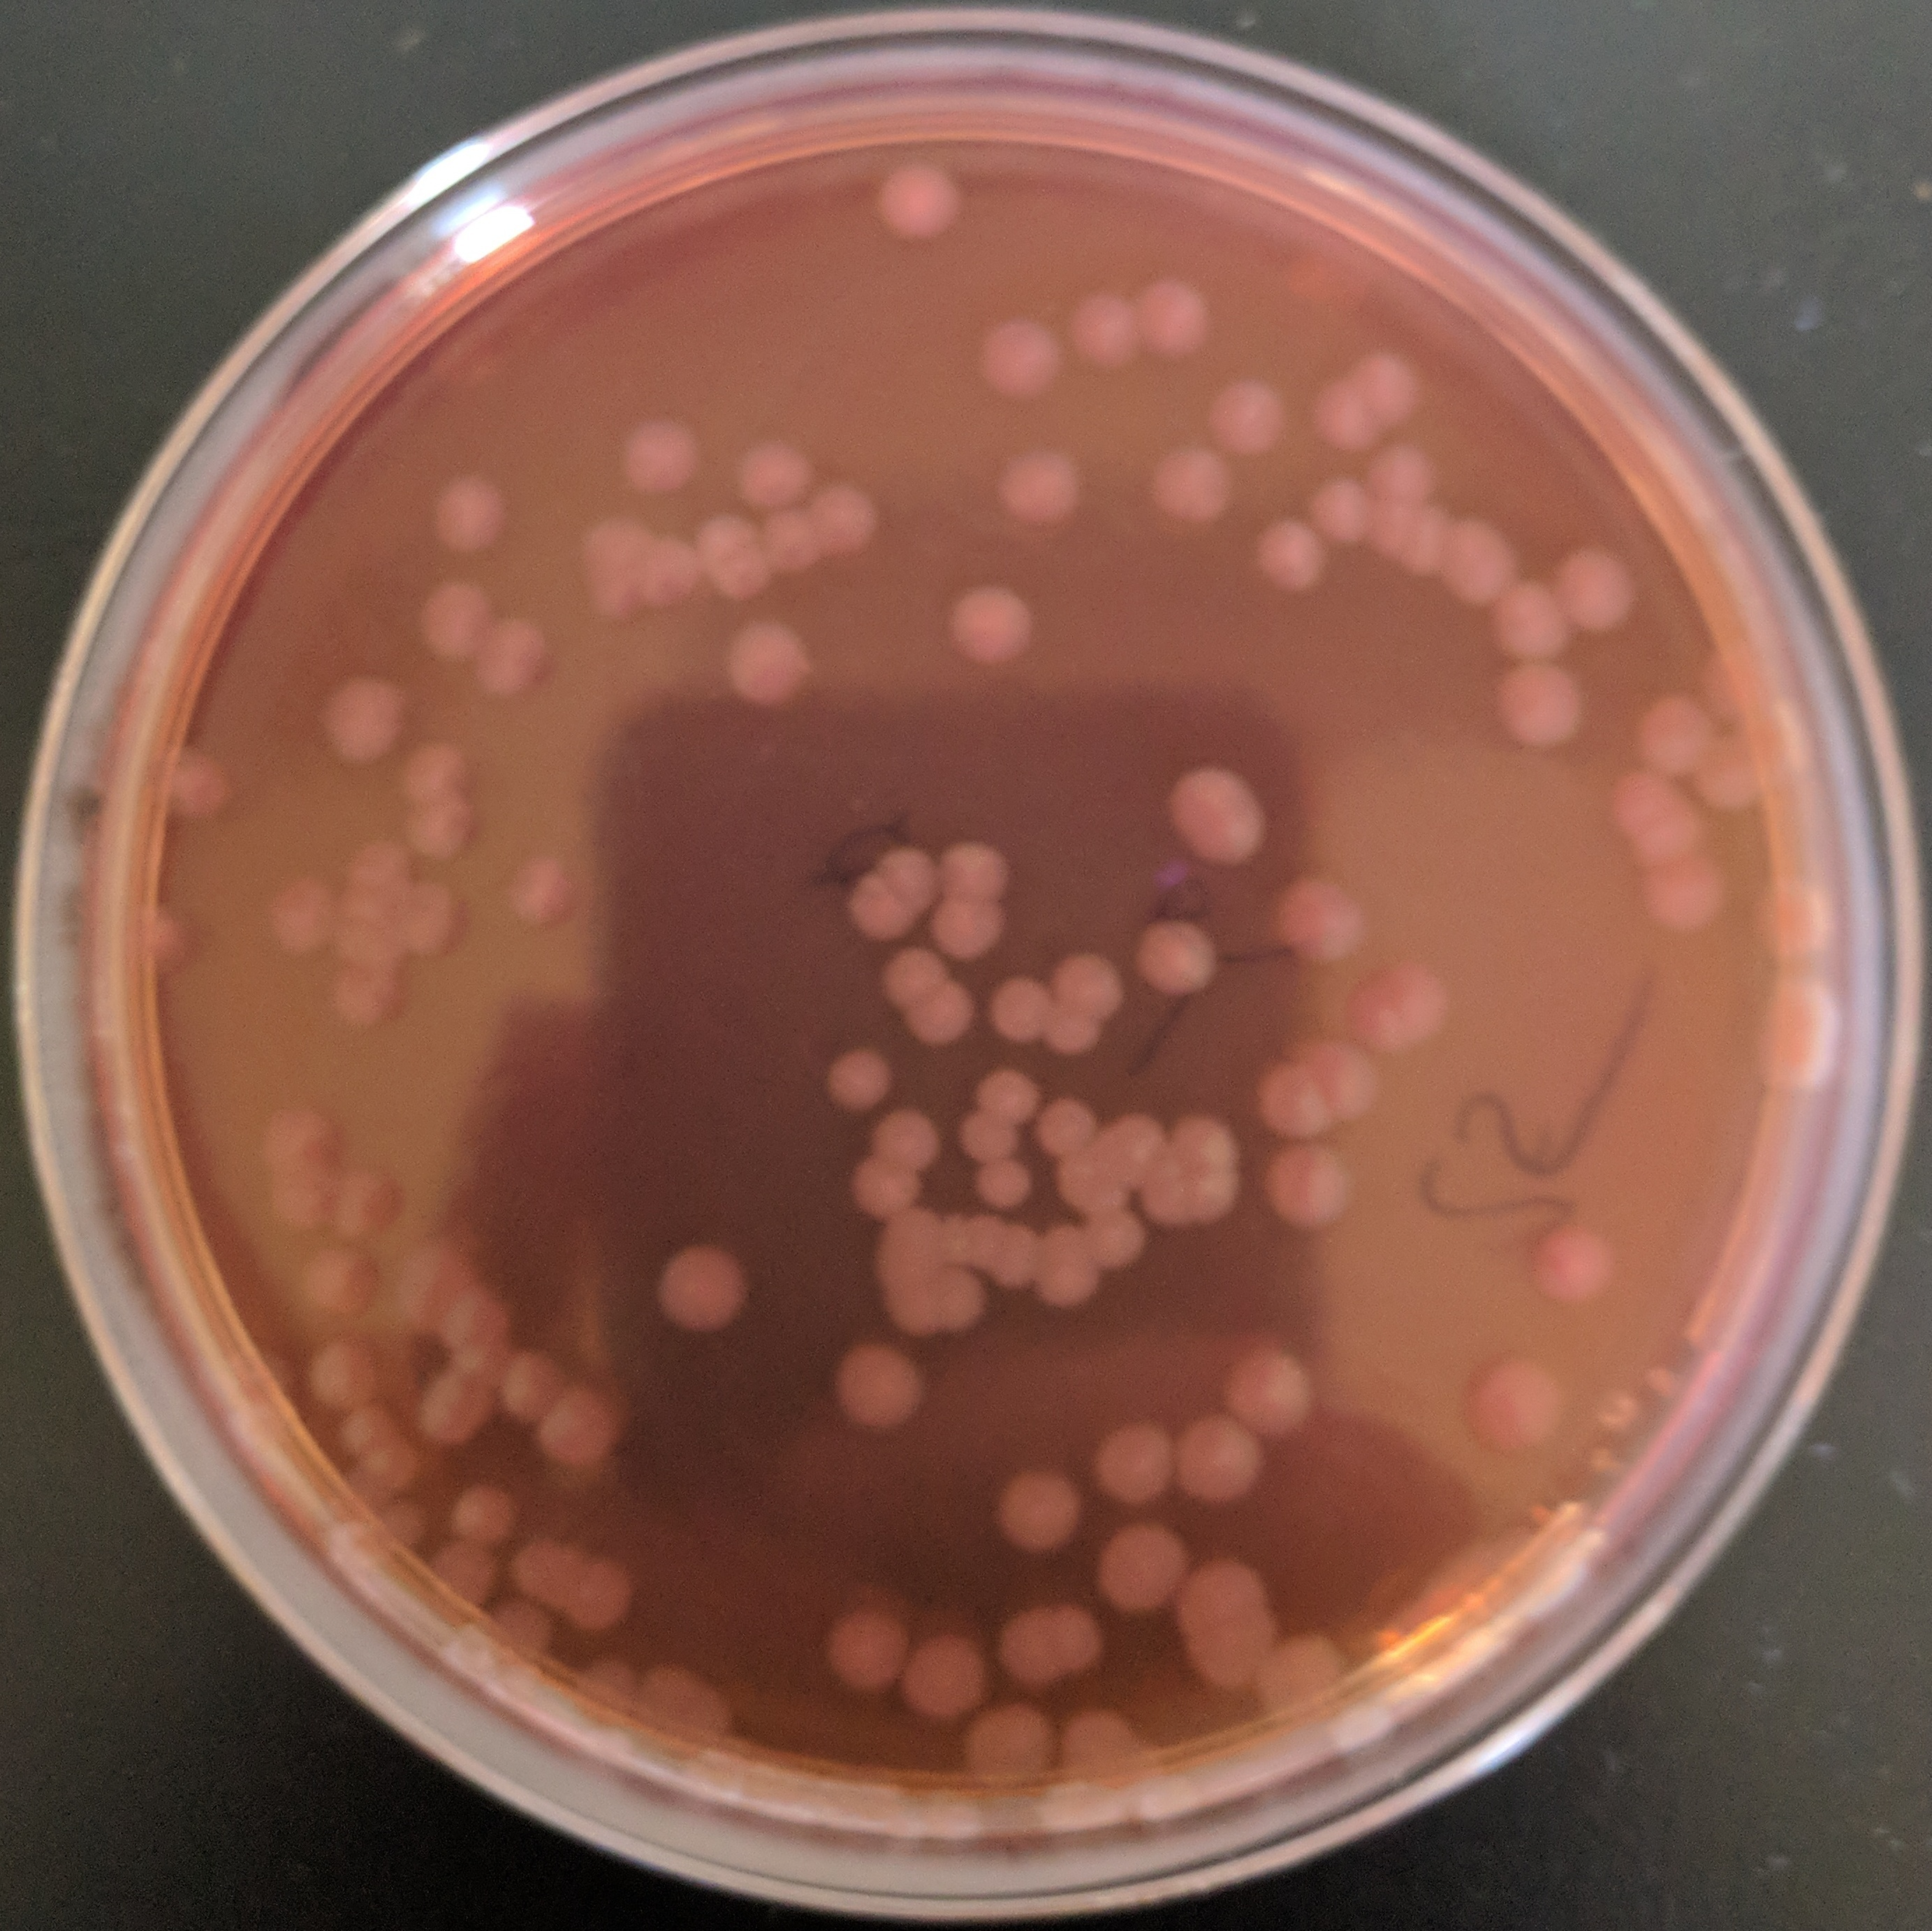sp17: (824, 1339, 949, 1441), (981, 437, 1107, 538), (1457, 1344, 1571, 1454), (1160, 759, 1273, 868), (643, 1653, 757, 1761), (640, 1238, 757, 1342), (955, 1692, 1064, 1798), (300, 672, 419, 767), (990, 1471, 1098, 1572), (1264, 875, 1375, 973), (856, 159, 983, 244), (1757, 973, 1845, 1095), (1133, 265, 1223, 384), (1087, 1418, 1186, 1524), (969, 311, 1069, 414), (939, 584, 1045, 681), (606, 414, 719, 504), (1619, 686, 1722, 785), (1633, 836, 1738, 932), (500, 845, 610, 935), (1128, 914, 1239, 1003), (728, 612, 822, 716), (1259, 1139, 1365, 1231), (1170, 1411, 1280, 1500), (527, 1376, 628, 1471), (1082, 1514, 1186, 1606), (426, 469, 525, 564), (1552, 538, 1646, 637), (1301, 1031, 1393, 1132), (825, 1607, 926, 1699), (1220, 1342, 1310, 1445), (1062, 283, 1145, 391), (1145, 437, 1239, 532), (1200, 370, 1296, 463), (916, 872, 1011, 965), (898, 1630, 993, 1722), (1485, 576, 1582, 667), (1495, 654, 1589, 746), (1610, 787, 1709, 874), (293, 1229, 387, 1319), (407, 573, 500, 663), (924, 824, 1027, 905), (412, 1372, 504, 1461), (392, 1238, 475, 1335), (1062, 1699, 1152, 1788), (1753, 874, 1838, 965), (1248, 1056, 1342, 1139), (569, 499, 658, 585), (323, 1156, 408, 1247), (1241, 1623, 1345, 1696), (1331, 985, 1430, 1061), (1529, 1211, 1610, 1303), (1170, 1558, 1273, 1630), (726, 437, 825, 511), (1434, 525, 1525, 603), (1172, 1600, 1262, 1678), (1372, 958, 1464, 1034), (820, 1045, 907, 1125), (398, 789, 486, 865), (1356, 340, 1430, 430), (1034, 1225, 1115, 1307), (260, 1105, 339, 1188), (894, 978, 977, 1057), (1045, 948, 1130, 1026), (566, 1561, 654, 1636), (302, 1337, 391, 1411), (760, 508, 840, 589), (1253, 516, 1333, 592), (399, 737, 481, 812), (848, 1148, 933, 1218), (977, 969, 1055, 1045), (150, 753, 226, 831), (262, 877, 336, 957), (628, 534, 709, 607), (497, 1347, 567, 1431), (1313, 469, 1379, 557), (861, 1210, 949, 1275), (407, 877, 472, 965), (1358, 435, 1439, 506), (442, 1482, 532, 1546), (571, 1643, 647, 1717), (329, 916, 408, 987), (999, 1604, 1062, 1691), (463, 645, 534, 723), (811, 474, 877, 555), (873, 840, 939, 921), (479, 1591, 553, 1662), (882, 943, 958, 1011), (1045, 1604, 1115, 1676), (1308, 378, 1388, 442), (847, 875, 910, 953), (877, 1109, 949, 1176), (422, 1542, 497, 1607), (949, 1105, 1029, 1165), (350, 1429, 421, 1496), (1609, 767, 1681, 833), (327, 973, 399, 1038), (969, 1151, 1045, 1213), (140, 905, 202, 981), (445, 1287, 513, 1356), (1029, 1088, 1098, 1155), (972, 1065, 1043, 1130), (262, 1172, 343, 1229), (481, 614, 559, 672), (329, 882, 407, 941), (509, 1526, 571, 1599), (990, 1220, 1050, 1294), (1055, 1135, 1115, 1210), (1393, 499, 1451, 575), (1172, 1109, 1243, 1171), (935, 1261, 995, 1333), (1140, 1162, 1202, 1227), (1082, 1206, 1147, 1266), (329, 1401, 399, 1455), (1193, 1165, 1253, 1229), (1043, 1008, 1110, 1065), (879, 1280, 939, 1340), (1105, 1107, 1161, 1171), (696, 509, 760, 566), (346, 838, 410, 895), (716, 552, 783, 605), (580, 561, 643, 615)
